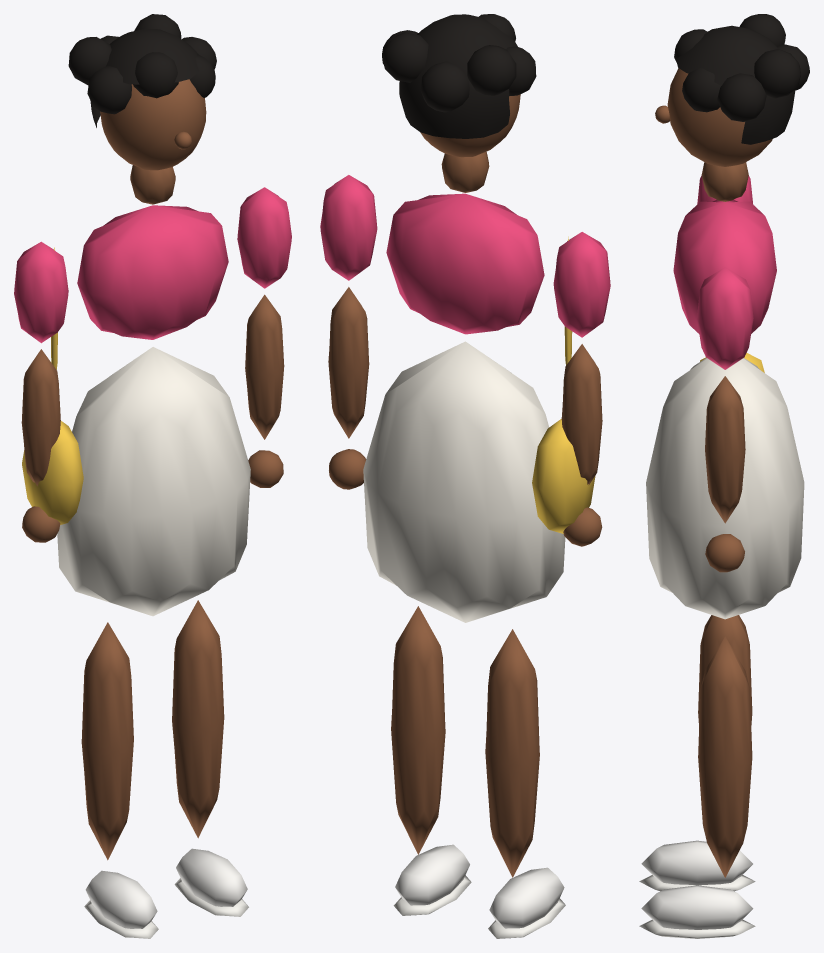
File: getkong-hhped3.glb
3 views of the same model, side by side, from view 1: azimuth 30°, elevation 25°; view 2: azimuth 150°, elevation 25°; view 3: azimuth 270°, elevation 25° (orthographic). The views are drawn at different scales.
Parts seen in each view (by area): view 1: rumpf, kopf, beinL, beinR, armR, armL; view 2: rumpf, kopf, beinR, beinL, armR, armL; view 3: rumpf, kopf, beinR, armR, beinL, armL.
Boxes of the visible parts, left/top/right/bottom form: rumpf: left=22, top=165, right=250, bottom=616; kopf: left=68, top=14, right=216, bottom=170; beinL: left=81, top=622, right=158, bottom=938; beinR: left=172, top=600, right=248, bottom=916; armR: left=237, top=187, right=291, bottom=487; armL: left=14, top=241, right=68, bottom=542; rumpf: left=363, top=151, right=595, bottom=622; kopf: left=382, top=14, right=536, bottom=157; beinR: left=391, top=606, right=471, bottom=915; beinL: left=485, top=629, right=565, bottom=938; armR: left=320, top=175, right=377, bottom=489; armL: left=553, top=232, right=610, bottom=546; rumpf: left=646, top=162, right=804, bottom=619; kopf: left=655, top=14, right=809, bottom=166; beinR: left=639, top=636, right=755, bottom=938; armR: left=697, top=267, right=753, bottom=572; beinL: left=639, top=615, right=755, bottom=891; armL: left=697, top=175, right=753, bottom=204.
Bounding box in the file's own units: 0.5718 × 1.74 × 0.3072.
